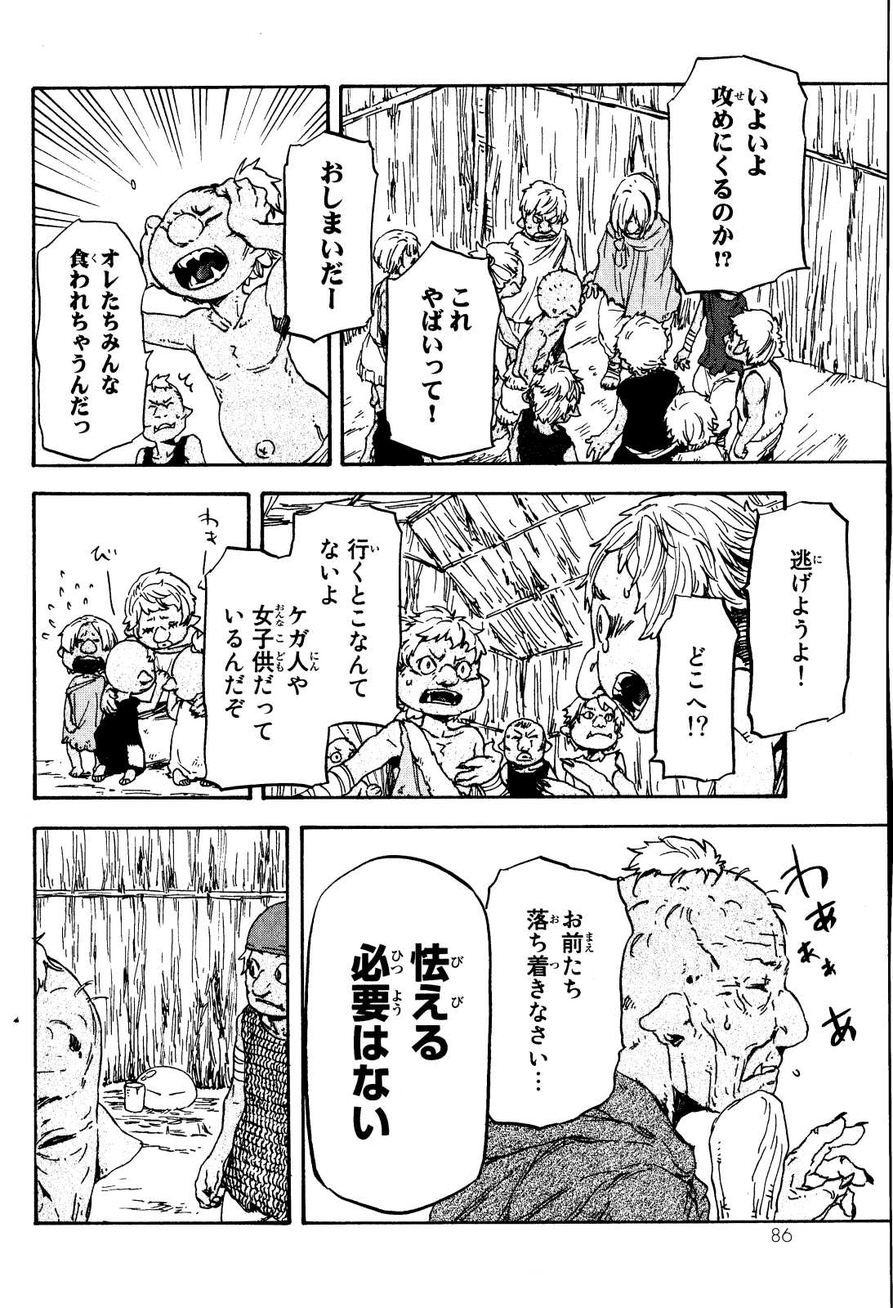bubbles: (304, 849, 492, 1212), (194, 501, 413, 791), (482, 845, 635, 1140), (655, 47, 819, 302), (33, 214, 155, 465), (380, 236, 508, 461), (744, 496, 856, 741), (274, 123, 381, 346), (652, 589, 741, 789)
